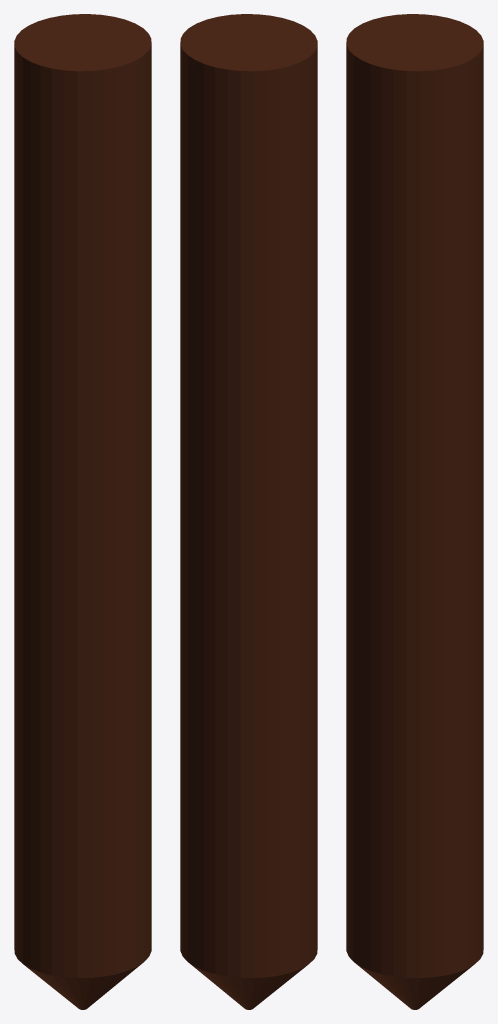
The model's file is GoalPost.fbx.
The picture shows the model from 3 angles, left to right: view 1: azimuth 30°, elevation 25°; view 2: azimuth 150°, elevation 25°; view 3: azimuth 330°, elevation 25°; orthographic projection.
Parts seen in each view (by area): view 1: Cylinder; view 2: Cylinder; view 3: Cylinder.
Part boxes in pixels (x1,y1,x2,y2): Cylinder: [14, 14, 151, 1009]; Cylinder: [180, 14, 317, 1009]; Cylinder: [346, 14, 483, 1009].
Size of the model in its own units: 96.1 by 739 by 93.47.
